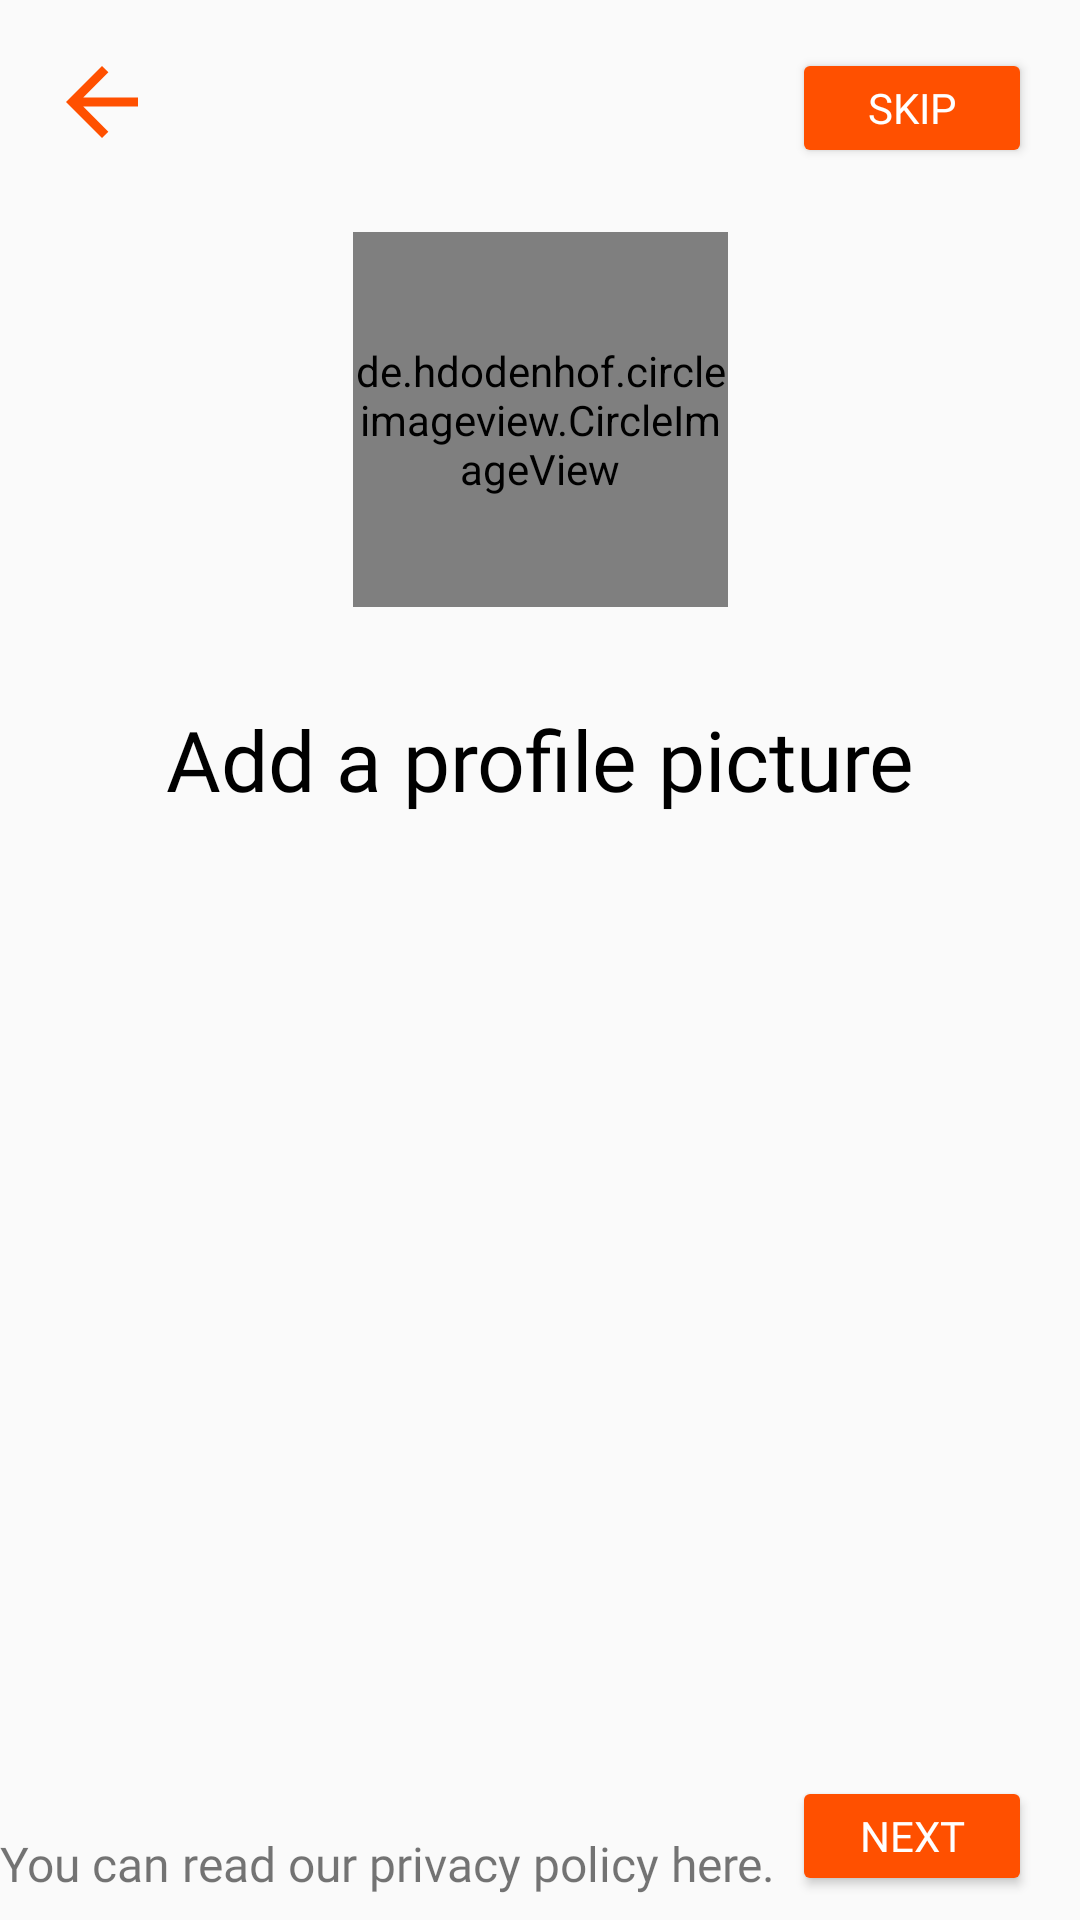

Icons on this 1080 × 1920 Android screen, each with its box as (x1, y1, x2, y2):
arrow back: (66, 66, 138, 138)
